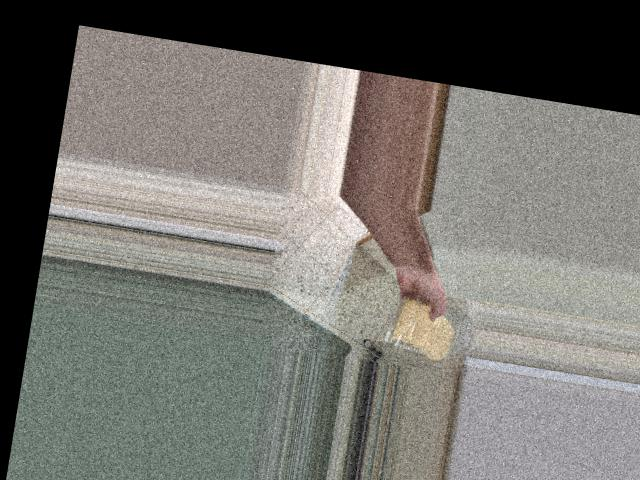cheese: (382, 293, 461, 368)
